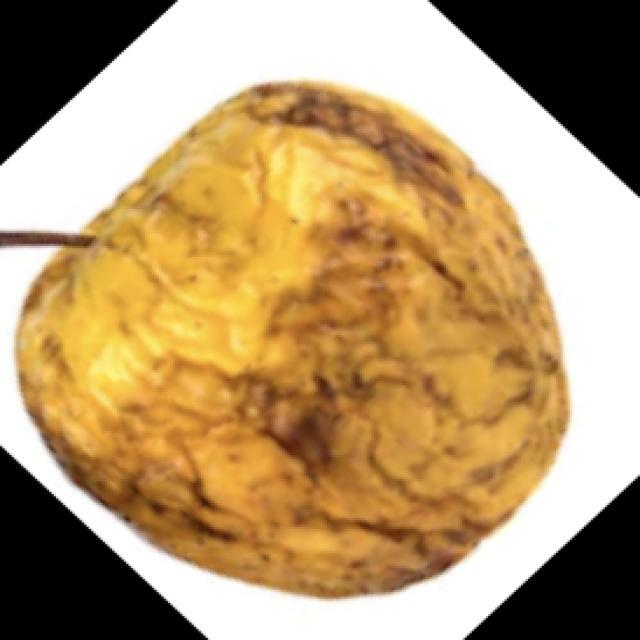Rotten: (8, 102, 560, 580)
